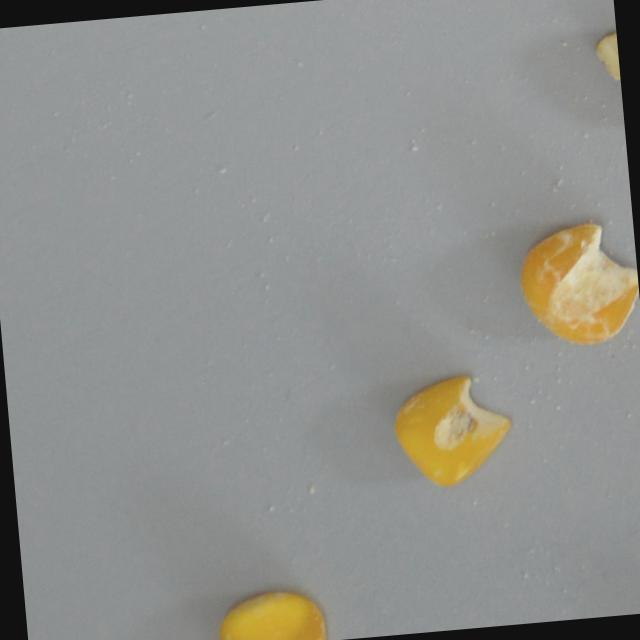dañado: (508, 210, 640, 355), (381, 364, 519, 497), (206, 576, 336, 640), (588, 24, 625, 138)
